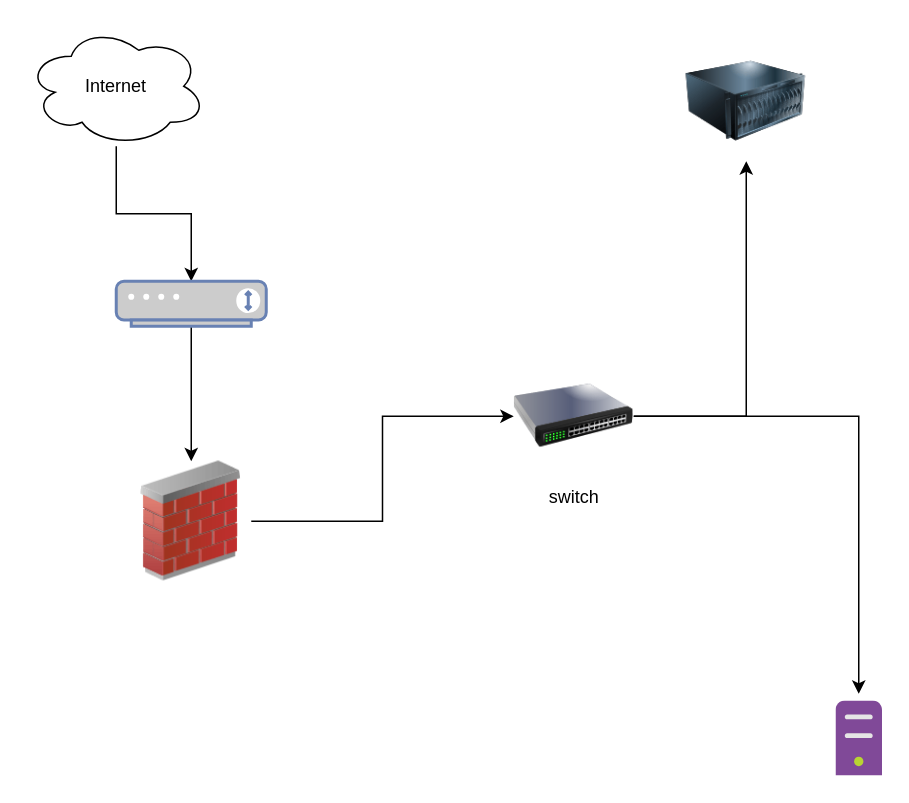
The diagram is 909 pixels wide and 803 high, and some of its shapes have lost their labels. The centre of each missing label's shape, as x and y in pixels:
"pfSense" goes at pixel 190 520.
"zabbix" goes at pixel 746 100.
